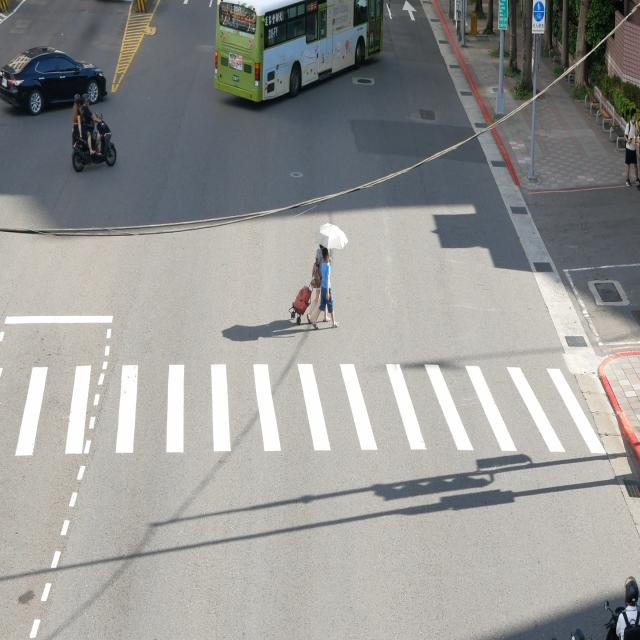pedestrian: (308, 245, 338, 328), (291, 286, 310, 323), (320, 265, 323, 269)
